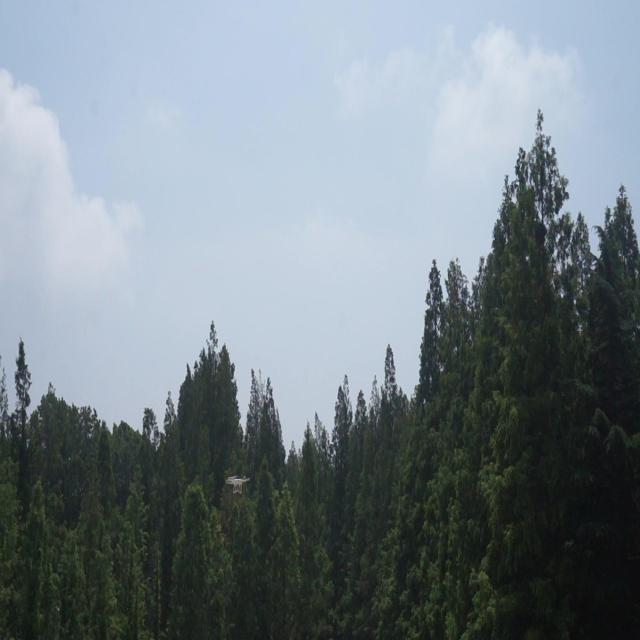drone: (225, 470, 253, 499)
